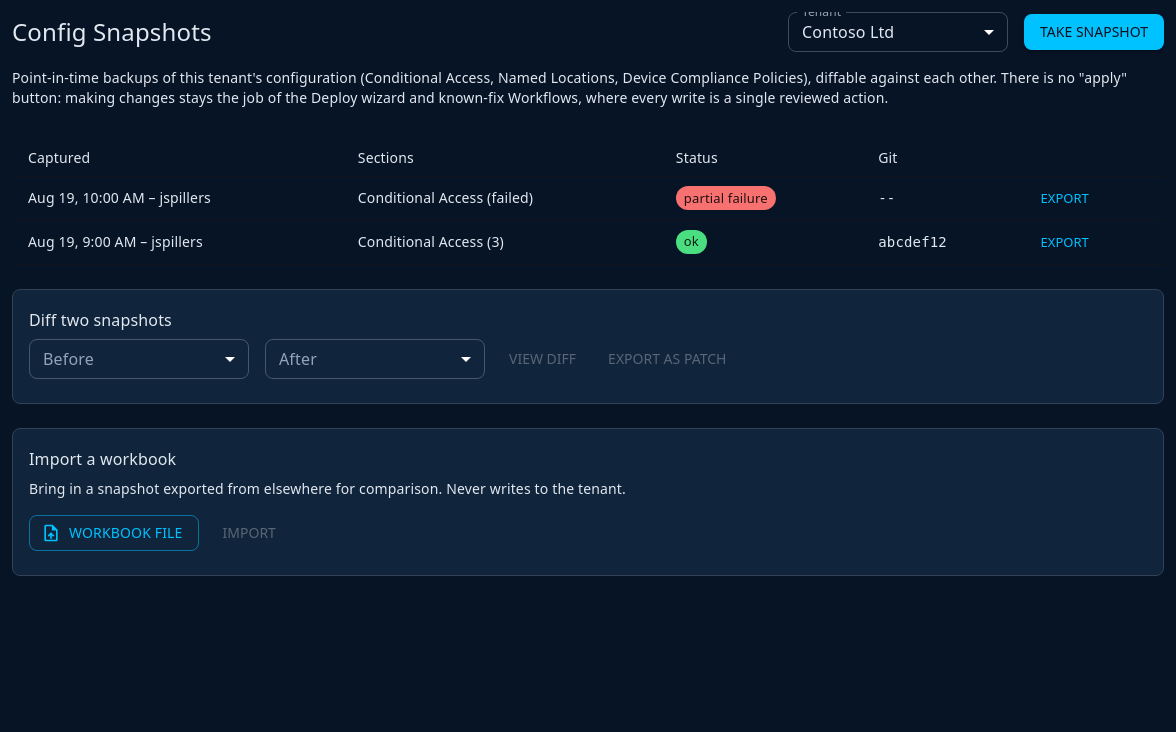
Test case: ConfigSnapshots › clears a stale error from an earlier failed action once a later, unrelated action succeeds
The width and height of the screenshot is (1176, 732).
Check: the text "Conditional Access (3)" is shown, box [342, 220, 660, 264]
Click the dropdown named "Before" next to "Before". click: (139, 359)
box: [29, 339, 249, 379]
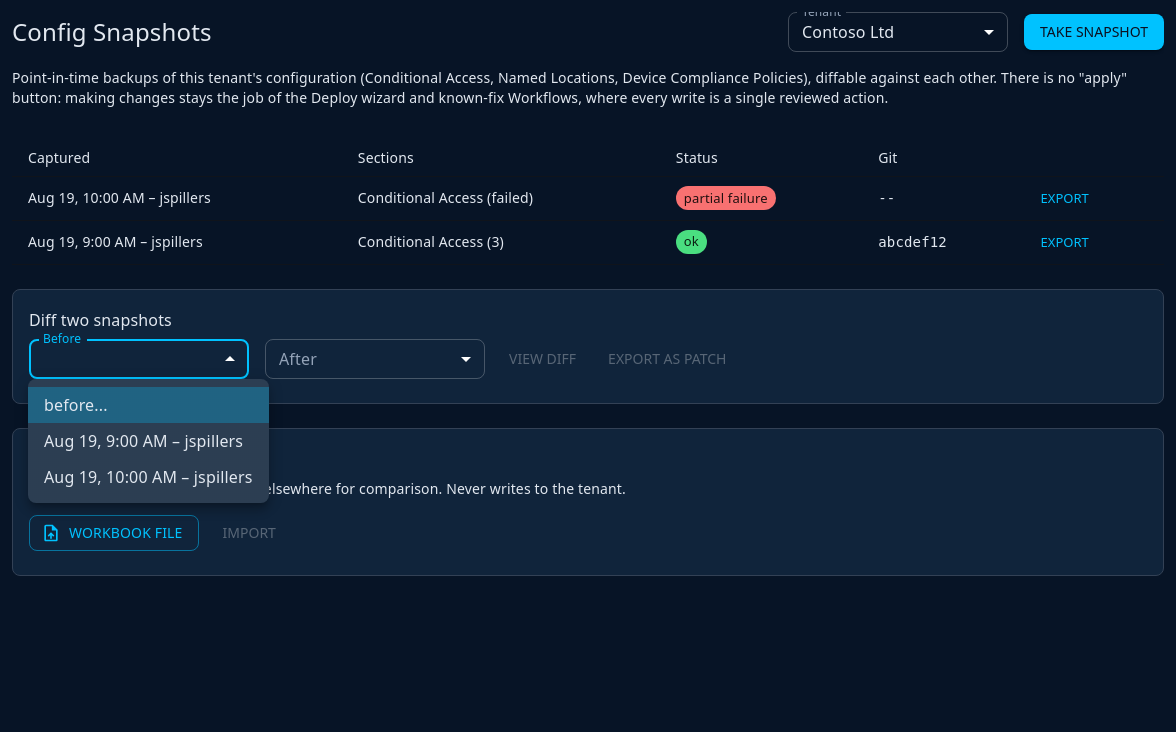
Click the option "Aug 19, 9:00 AM – jspillers". click: (144, 441)
box: [44, 430, 243, 452]
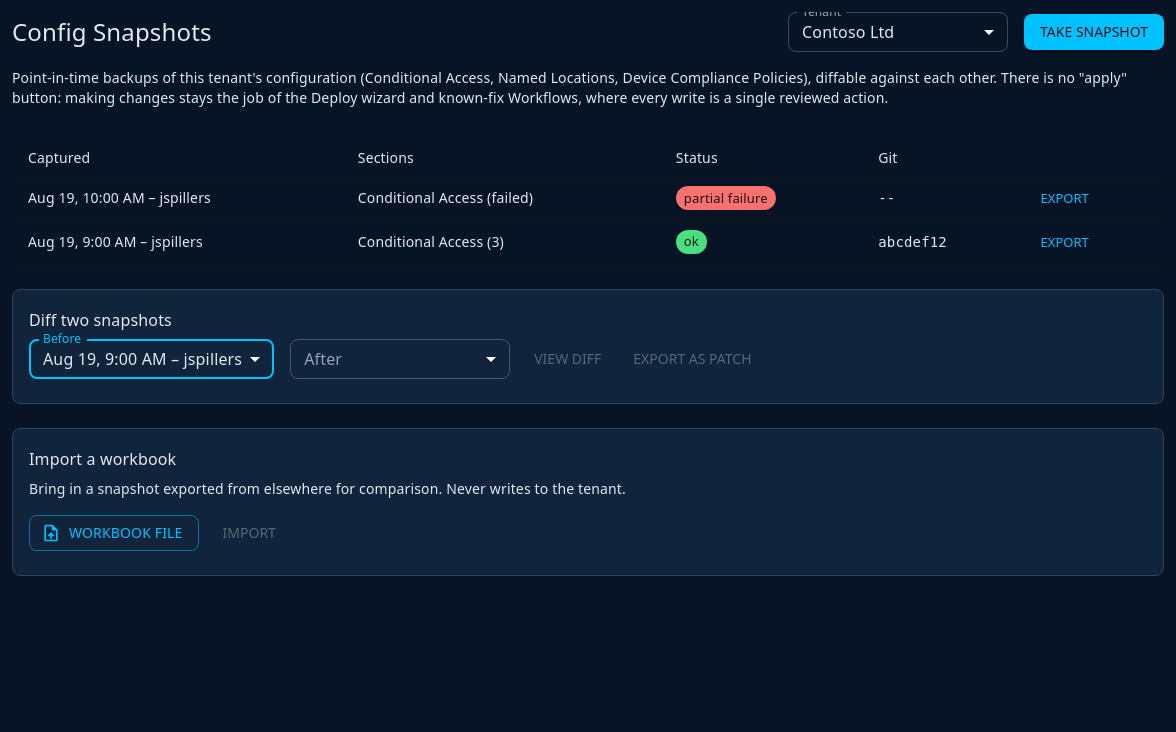
Click the dropdown named "After". click: (400, 359)
box: [290, 339, 510, 379]
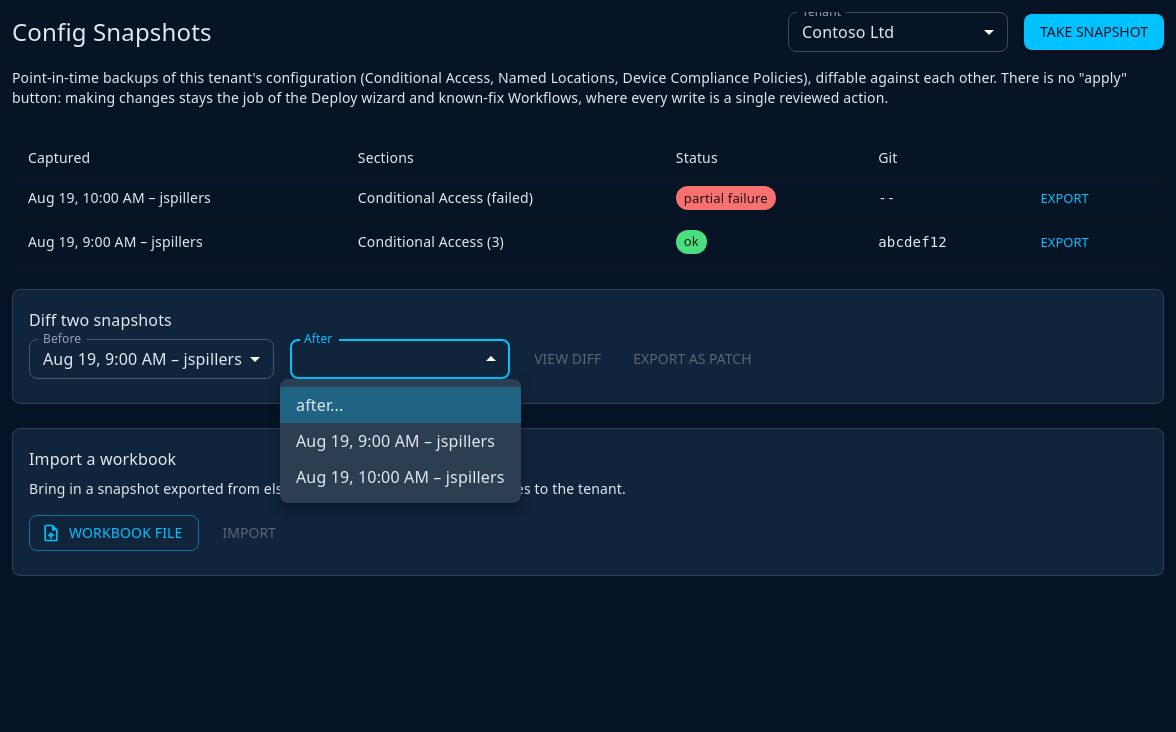
Click the option "Aug 19, 10:00 AM – jspillers". click: (400, 477)
box: [280, 459, 520, 495]
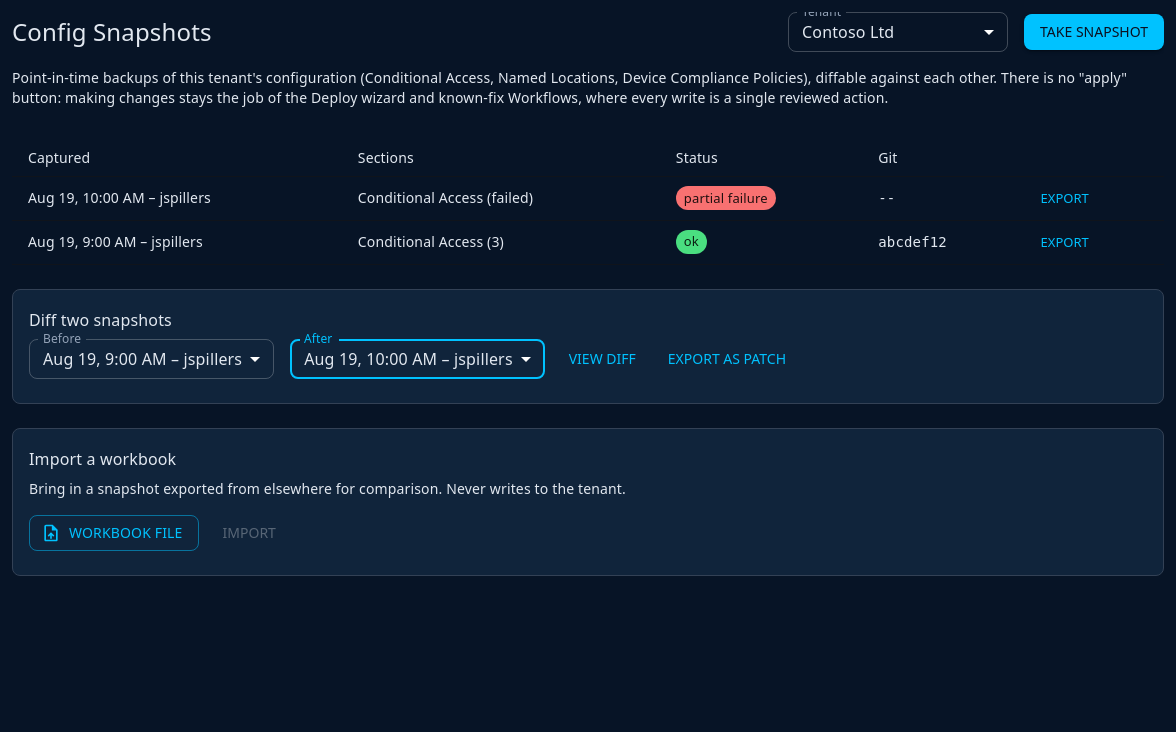
Click the button "View diff". click: (602, 359)
box: [561, 341, 644, 377]
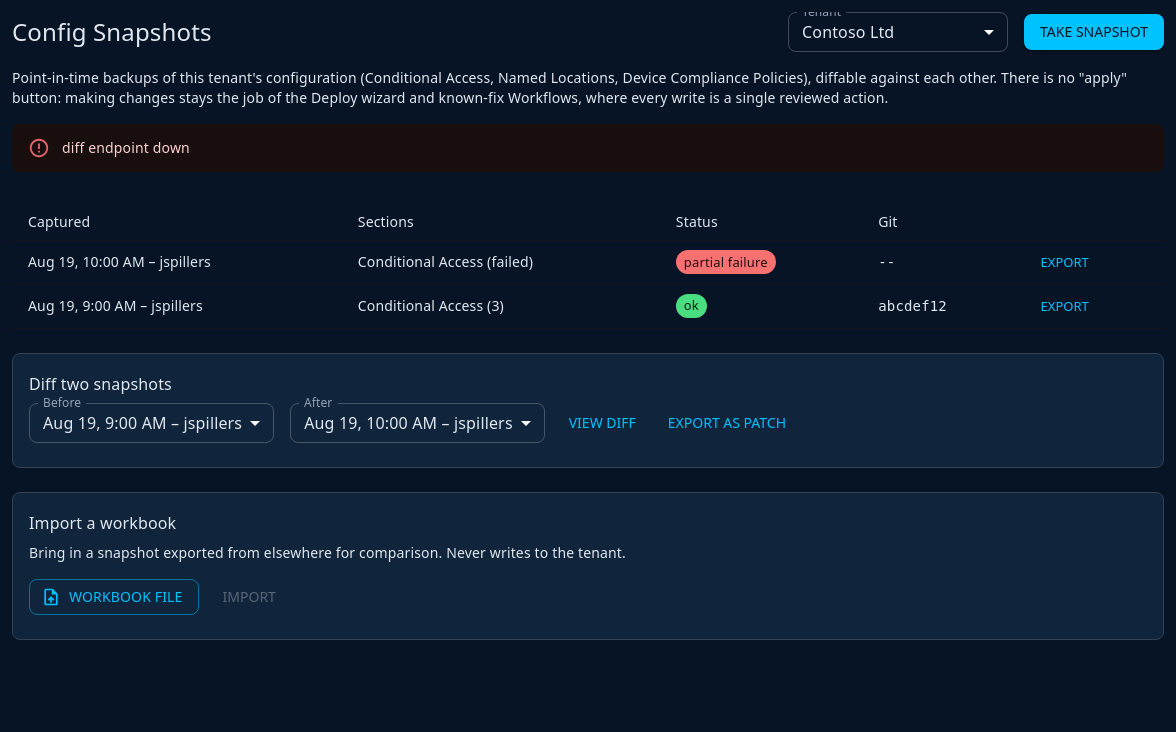
Check: the text "diff endpoint down" is shown, box [62, 138, 190, 157]
Click the button "Take Snapshot". click: (1094, 32)
box: [1024, 14, 1164, 50]
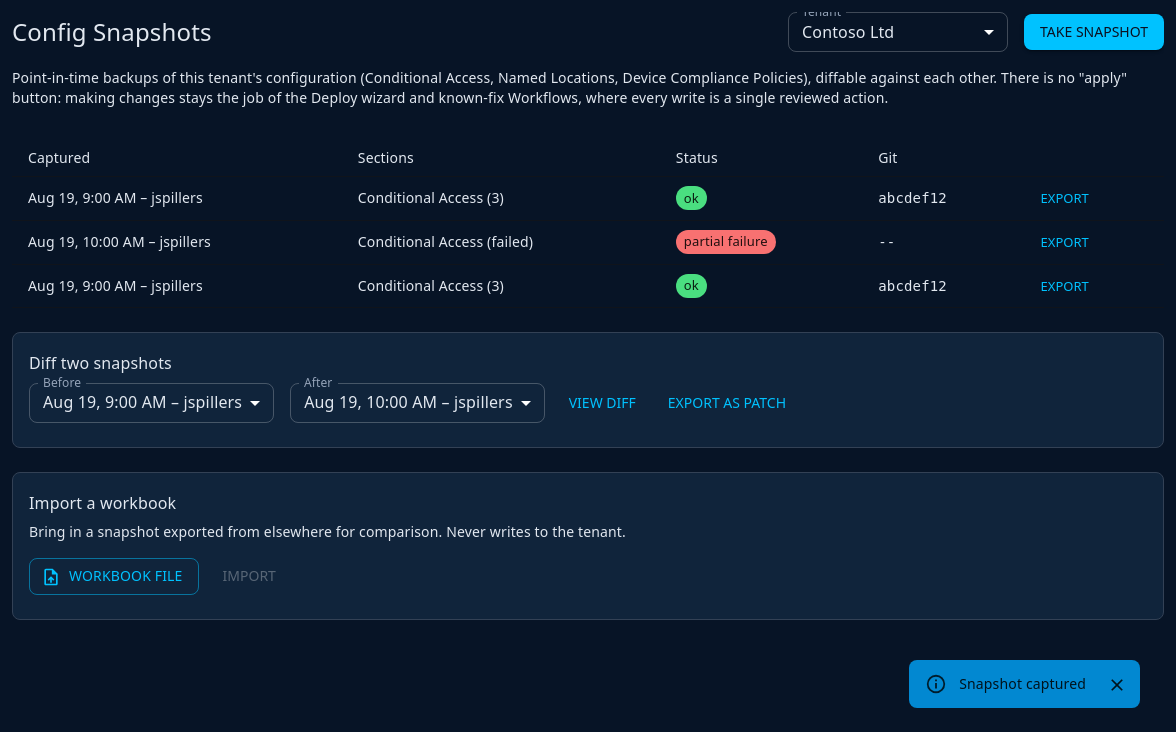
Check: the text "Snapshot captured" is shown, box [959, 674, 1086, 693]
Check: the text "diff endpoint down" is gone
